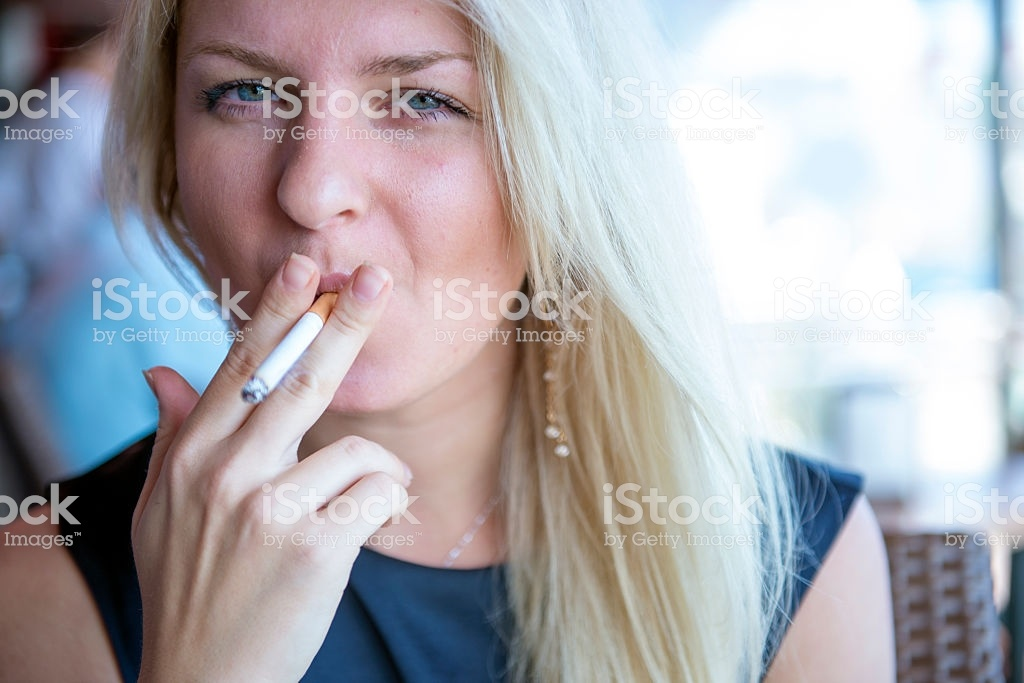sigaretta: (251, 283, 340, 407)
